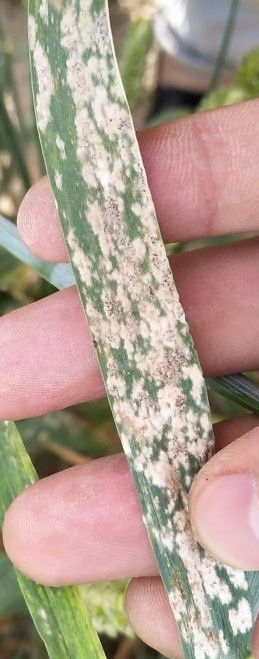Powdery Mildew: (32, 50, 205, 462)
